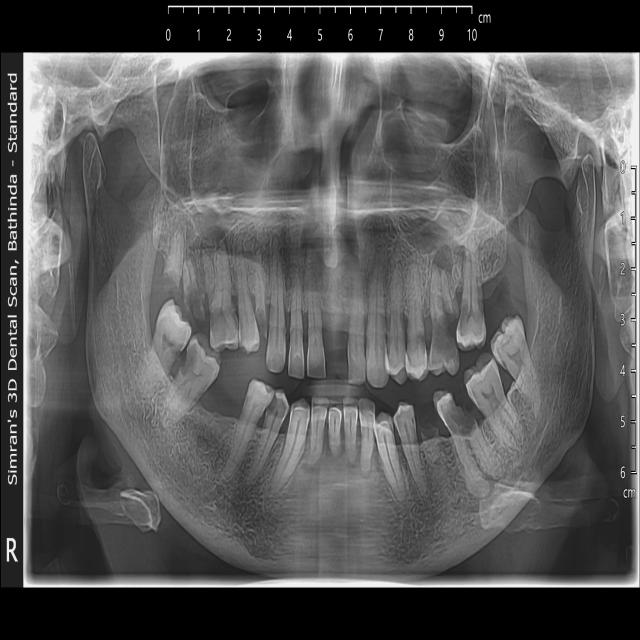Caries: (154, 299, 189, 372), (180, 335, 220, 393), (441, 390, 479, 439), (456, 297, 485, 346), (386, 310, 405, 382), (406, 328, 431, 381), (394, 400, 417, 447), (210, 309, 235, 345), (434, 306, 459, 341), (266, 390, 288, 423), (254, 306, 267, 339)
Missing teeth: (194, 377, 243, 459), (328, 304, 348, 360)
Periapical lesion: (191, 224, 230, 258), (430, 245, 452, 283), (326, 438, 344, 466)
Root Canal Treatment: (162, 220, 185, 295), (183, 260, 207, 321), (421, 418, 443, 465)
